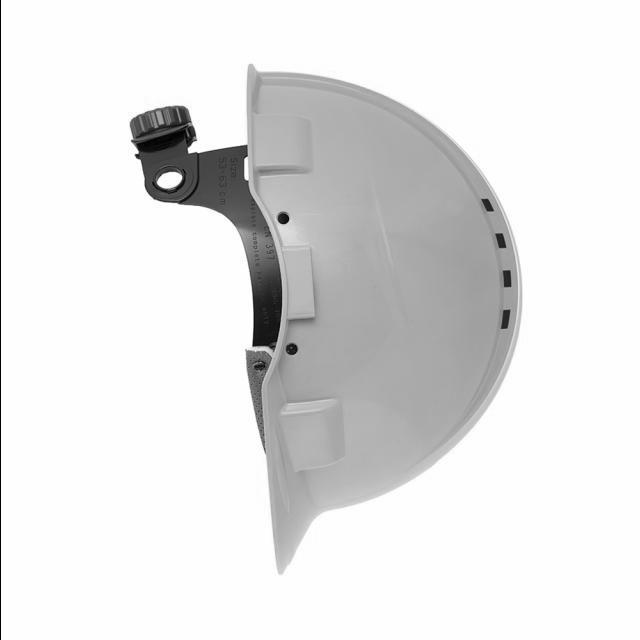safety_helmet: (127, 63, 521, 577)
